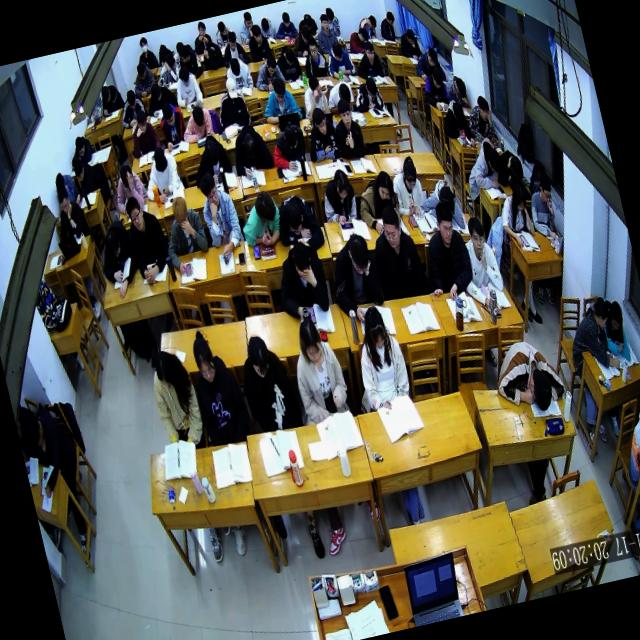bow: (346, 302, 416, 414), (486, 330, 568, 419), (93, 216, 144, 301), (271, 187, 327, 256), (233, 186, 287, 252), (352, 167, 404, 235), (185, 129, 235, 192), (460, 140, 510, 201), (418, 176, 466, 236), (227, 122, 275, 179), (266, 120, 312, 176), (437, 96, 476, 152), (65, 152, 104, 206), (322, 37, 358, 86), (177, 101, 217, 143), (142, 77, 180, 119), (114, 85, 148, 129), (350, 74, 385, 116), (250, 54, 286, 94), (323, 77, 357, 118), (173, 41, 205, 82), (272, 43, 304, 83), (412, 46, 444, 84), (151, 51, 182, 88), (442, 74, 472, 112), (287, 22, 318, 58), (96, 81, 126, 117), (198, 36, 226, 72), (66, 132, 94, 164), (344, 24, 372, 56), (296, 10, 322, 42), (355, 26, 370, 44)
down: (190, 332, 222, 386), (242, 331, 274, 382), (342, 229, 373, 278), (294, 317, 324, 367), (360, 303, 390, 352), (150, 345, 180, 390), (281, 194, 308, 238), (288, 240, 316, 282), (19, 411, 45, 450), (168, 192, 193, 231), (588, 292, 610, 331), (398, 154, 420, 190), (330, 166, 352, 202), (372, 170, 395, 203), (604, 295, 625, 331), (102, 228, 124, 260), (508, 179, 528, 212), (534, 172, 554, 205), (484, 144, 504, 177), (239, 130, 260, 161), (202, 135, 223, 166), (506, 150, 526, 181), (280, 122, 300, 152), (150, 143, 170, 173), (118, 162, 138, 190), (270, 72, 288, 102), (222, 75, 240, 102), (328, 36, 346, 62), (134, 107, 150, 136), (70, 155, 87, 182), (159, 100, 176, 126), (451, 74, 468, 100), (450, 98, 466, 124), (363, 74, 379, 100), (226, 52, 242, 78), (124, 87, 140, 111), (148, 80, 164, 104), (429, 65, 444, 90), (298, 24, 314, 46), (72, 134, 86, 158), (264, 54, 279, 76), (177, 65, 192, 87), (424, 46, 439, 68), (190, 103, 204, 126), (134, 59, 148, 82), (282, 44, 296, 66), (302, 10, 316, 32), (226, 29, 239, 52), (216, 18, 230, 38), (404, 26, 417, 47), (100, 84, 112, 104), (241, 10, 253, 30), (280, 10, 292, 30), (384, 10, 396, 28), (366, 13, 378, 30), (258, 16, 270, 33)
lookup: (376, 202, 405, 250), (430, 199, 458, 247), (195, 166, 223, 212), (464, 212, 489, 256), (123, 194, 149, 233), (308, 102, 330, 138), (334, 96, 356, 130), (474, 92, 492, 124), (56, 187, 72, 215), (305, 34, 320, 60), (362, 38, 376, 62), (250, 23, 264, 44), (319, 12, 332, 33), (138, 36, 150, 54), (196, 20, 208, 38)
sit: (183, 326, 254, 449), (280, 308, 352, 424), (231, 328, 304, 437), (412, 195, 480, 304), (362, 199, 431, 303), (144, 344, 207, 452), (322, 225, 388, 325), (18, 404, 84, 498), (453, 212, 511, 318), (268, 234, 335, 324), (192, 164, 248, 266), (119, 190, 176, 289), (560, 292, 622, 379), (154, 190, 214, 278), (136, 142, 186, 206), (384, 150, 428, 222), (316, 163, 361, 229), (256, 67, 304, 126), (327, 94, 368, 162), (49, 184, 92, 248), (300, 102, 342, 166), (210, 73, 253, 135), (524, 172, 562, 241), (494, 182, 536, 242), (107, 159, 152, 215), (615, 398, 640, 497), (462, 91, 502, 150), (124, 105, 164, 160), (154, 99, 190, 152), (169, 61, 204, 108), (297, 33, 330, 80), (350, 38, 384, 82), (299, 72, 331, 118), (420, 65, 450, 114), (311, 10, 341, 57), (243, 21, 273, 64), (216, 28, 248, 68), (223, 53, 254, 93), (396, 24, 424, 64), (128, 59, 156, 99), (133, 33, 159, 70), (235, 9, 260, 46), (188, 19, 214, 54), (272, 9, 298, 42), (376, 10, 400, 44), (212, 18, 235, 51), (356, 10, 378, 42), (256, 13, 276, 40)
